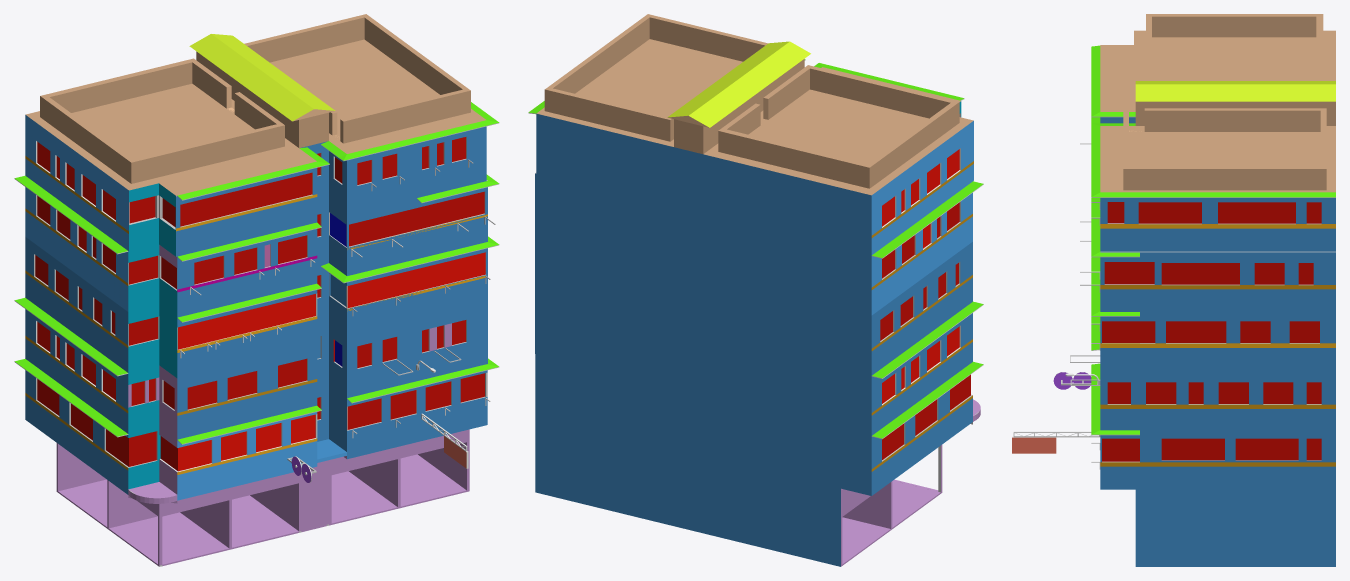
Rendered from building1v3.fbx.
The picture shows the model from 3 angles, left to right: view 1: azimuth 30°, elevation 25°; view 2: azimuth 150°, elevation 25°; view 3: azimuth 270°, elevation 25°; orthographic projection. The views are drawn at different scales.
Visible parts, largest first — view 1: Group#49-Entity2829661; view 2: Group#49-Entity2829661; view 3: Group#49-Entity2829661.
Boxes of the visible parts, <box> form: Group#49-Entity2829661: <box>14,14,499,566</box>; Group#49-Entity2829661: <box>528,14,983,566</box>; Group#49-Entity2829661: <box>1012,14,1335,566</box>.
Size of the model in its own units: 2650 by 2960 by 2125.
